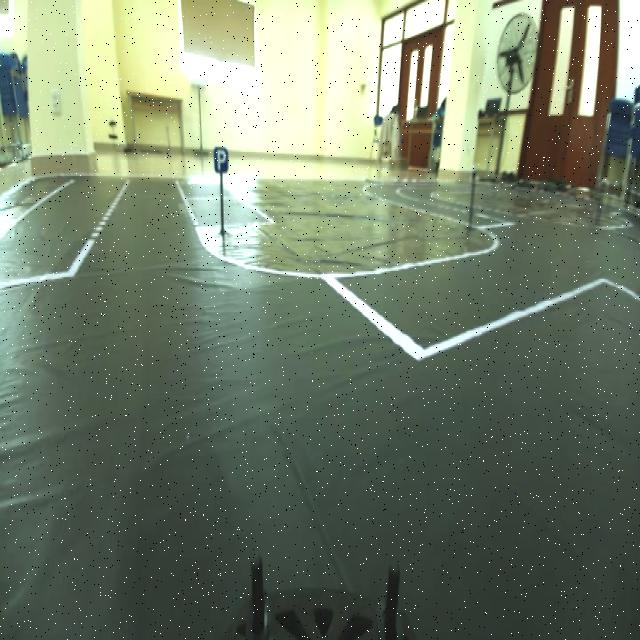parking: (209, 146, 232, 179)
